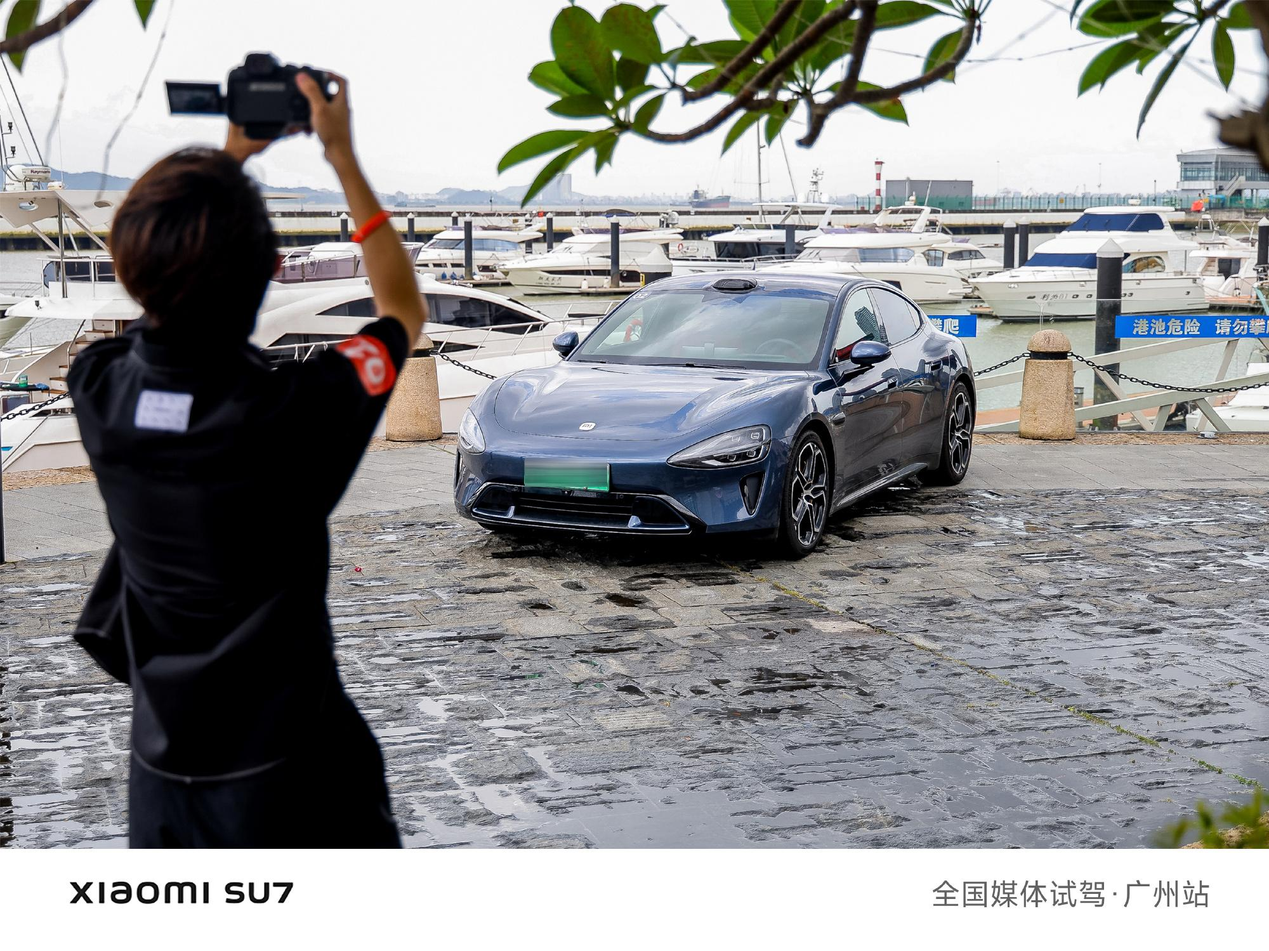XIAOMI: (579, 422, 597, 431)
